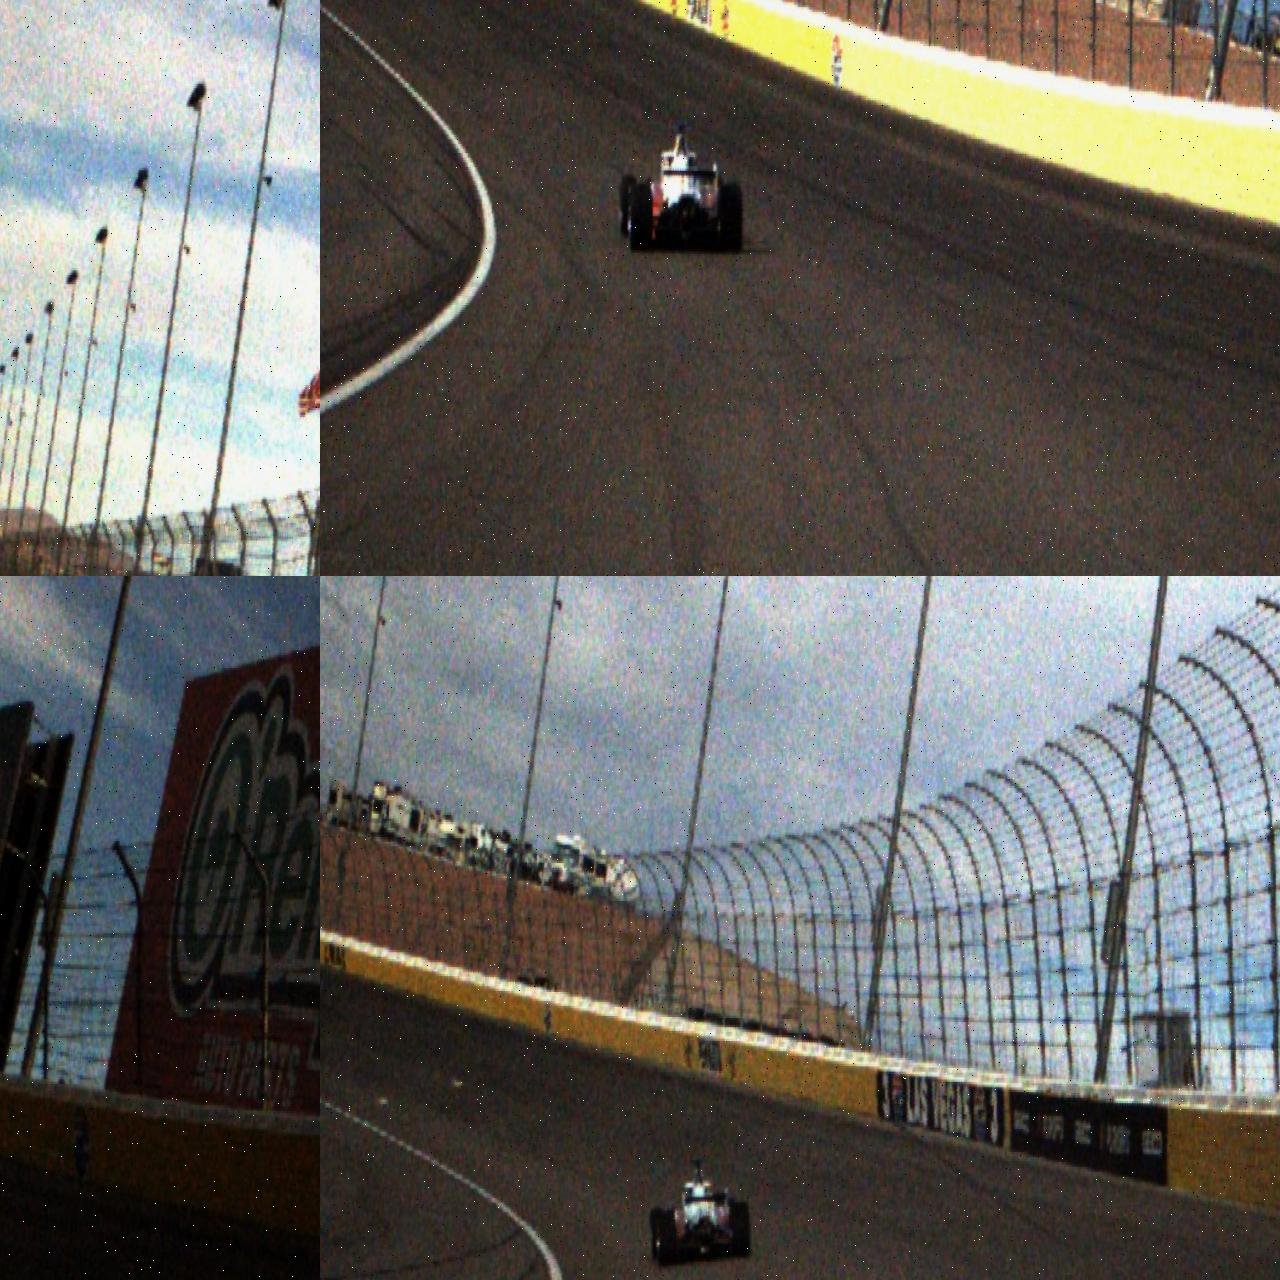AV: (619, 122, 744, 256), (648, 1156, 753, 1268)
Wheel: (628, 184, 653, 252), (720, 183, 742, 253), (619, 173, 636, 238), (731, 1201, 751, 1258), (658, 1213, 676, 1266)
